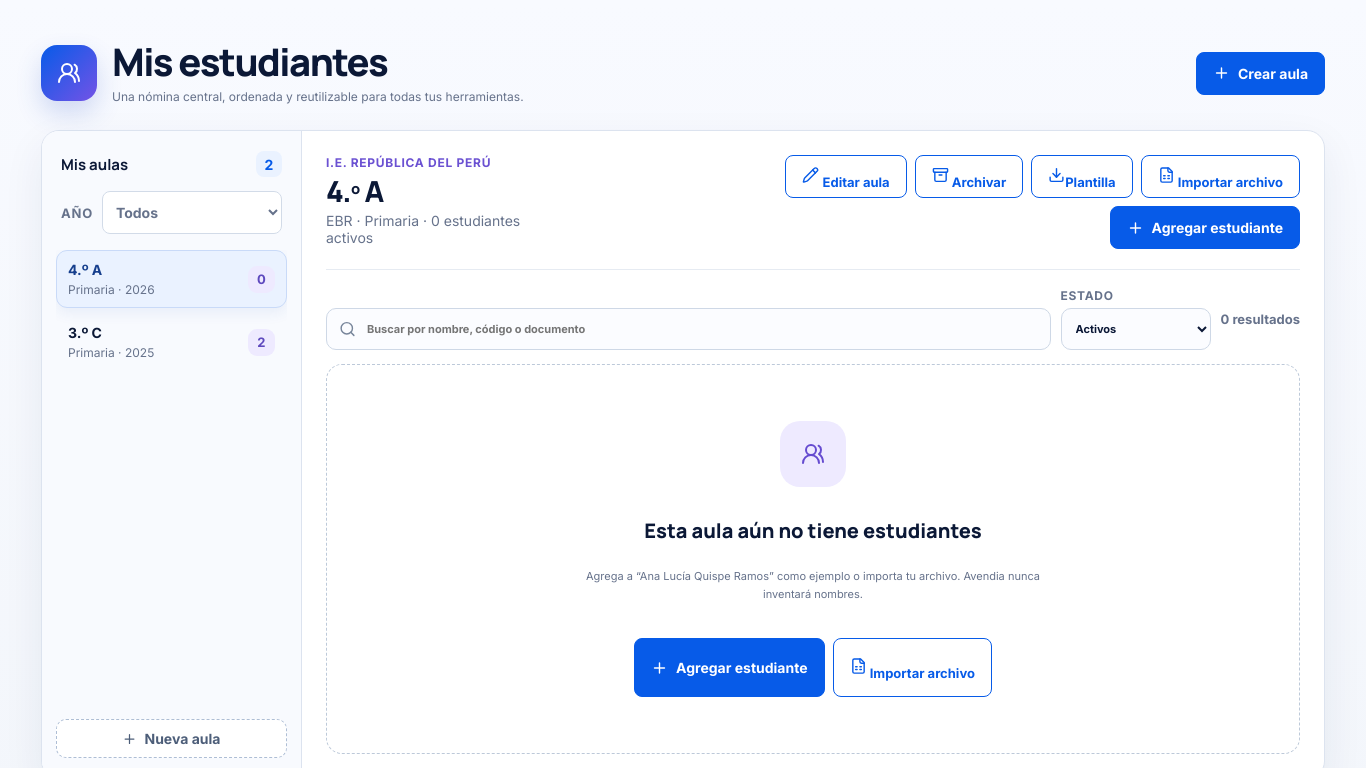
RosterPage › reconciles the selected classroom when filtering by school year
Expected: the heading "4.º A" is shown, [326,171,383,211]
Step 1. Select "2025" in the dropdown labelled "Año" → (192, 212), box [102,191,282,234]
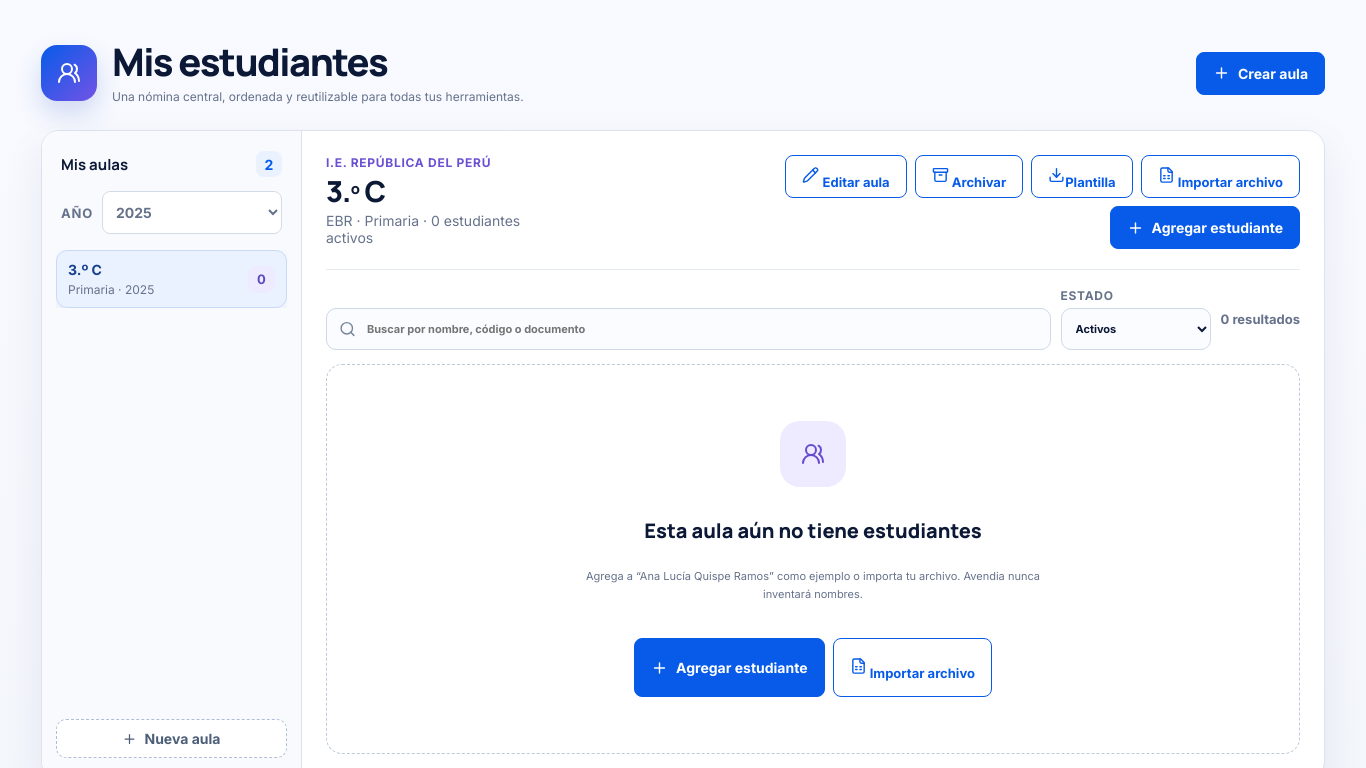
Expected: the heading "3.º C" is shown, [326,171,385,211]
